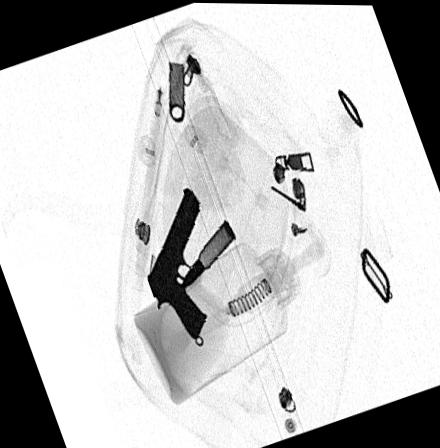Bullet: (179, 222, 233, 293)
Gun: (146, 187, 206, 342)
